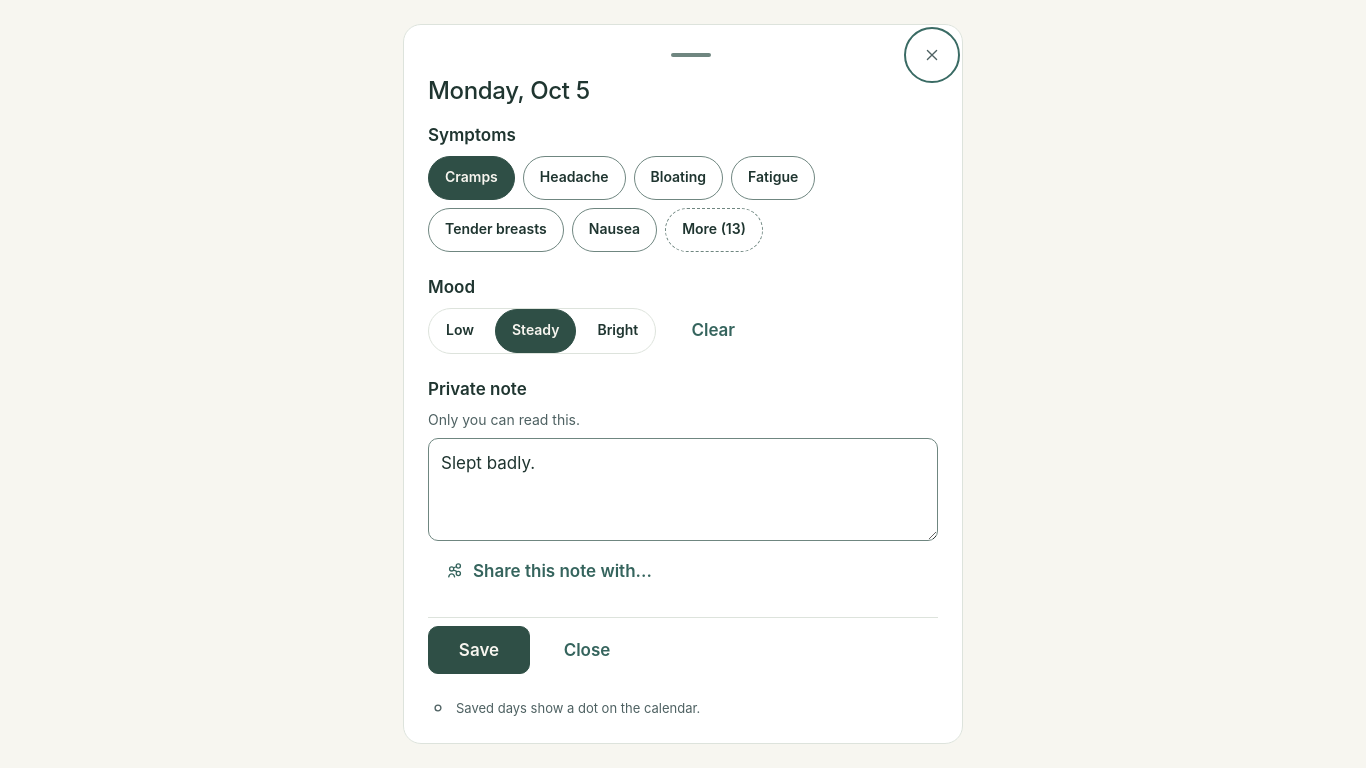
it: DayLogSheet › shares the saved note after the confirm step and lists it as shared
The image size is (1366, 768).
(page scrolled)
Click the button "Share this note with..." at {"x": 548, "y": 571}, box x1=428 y1=549 x2=669 y2=593
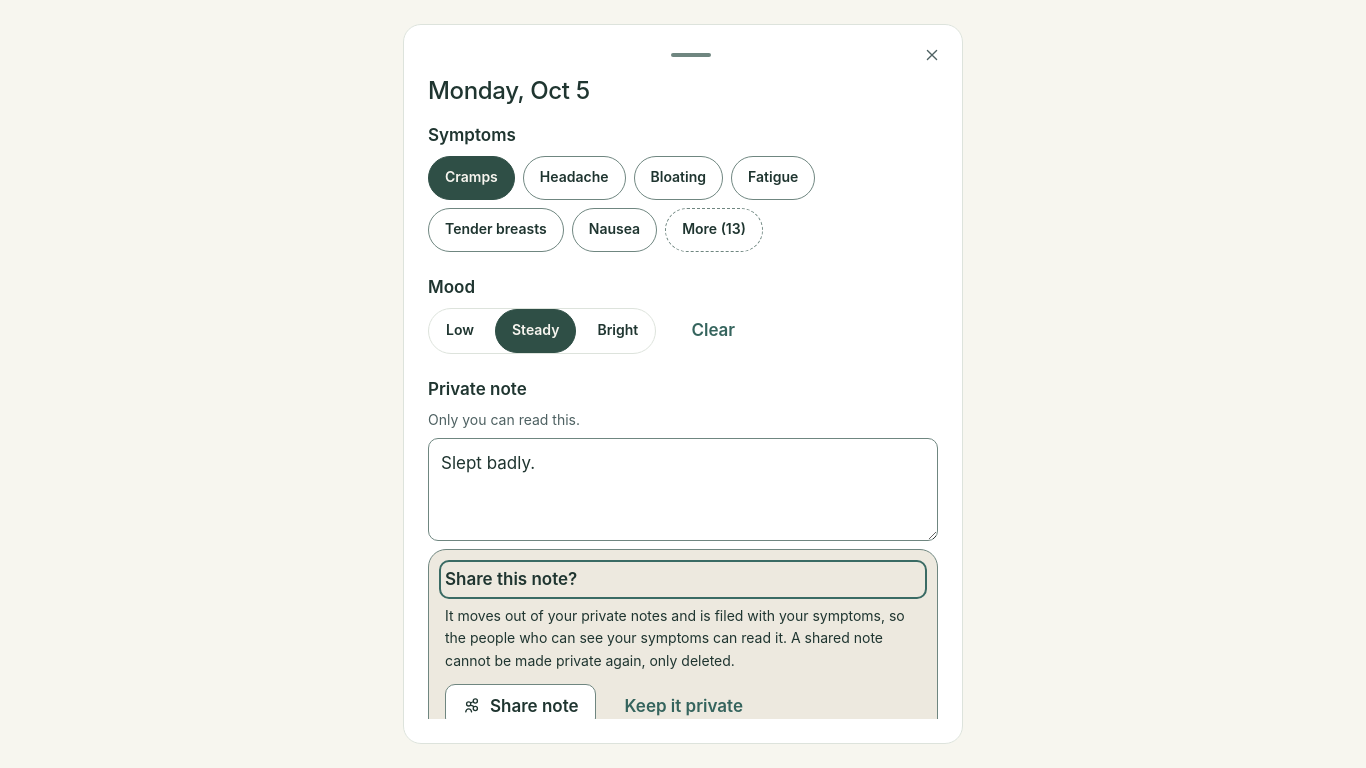
Click the button "Share note" at {"x": 520, "y": 706}, box x1=445 y1=684 x2=596 y2=728
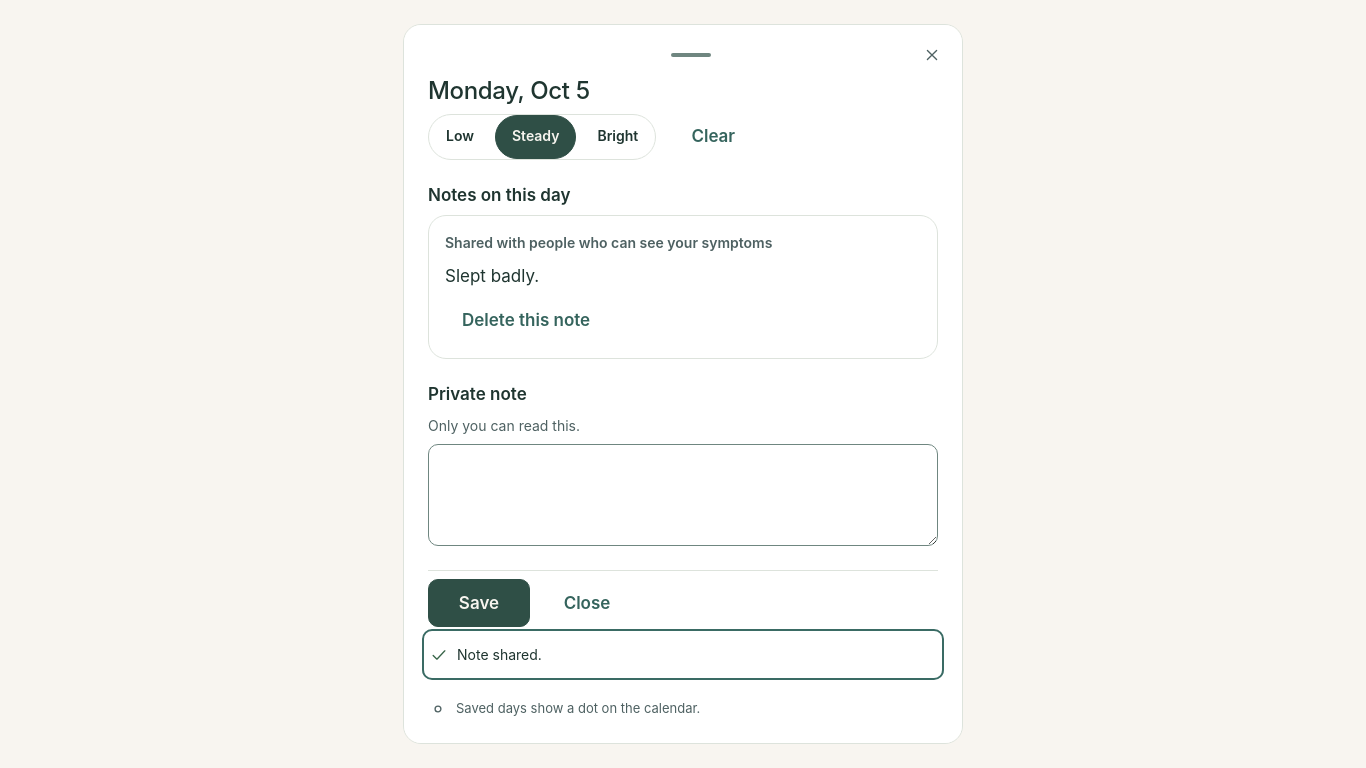
Expected: the text "Note shared." is shown, x1=457 y1=644 x2=542 y2=665
Expected: the text "Shared with people who can see your symptoms" is shown, x1=445 y1=234 x2=772 y2=251
Expected: the text "Slept badly." is shown, x1=445 y1=266 x2=539 y2=286
